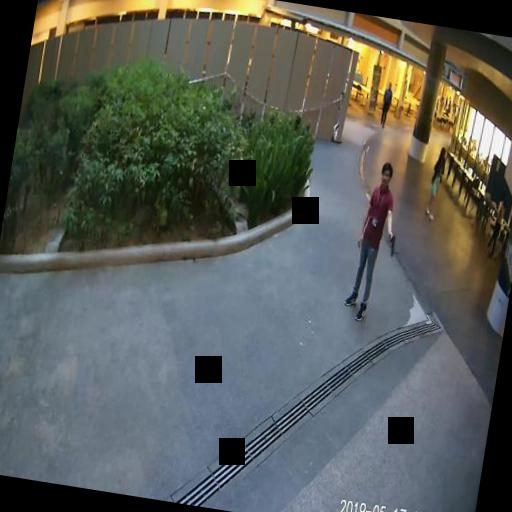Handgun: (384, 231, 394, 256)
